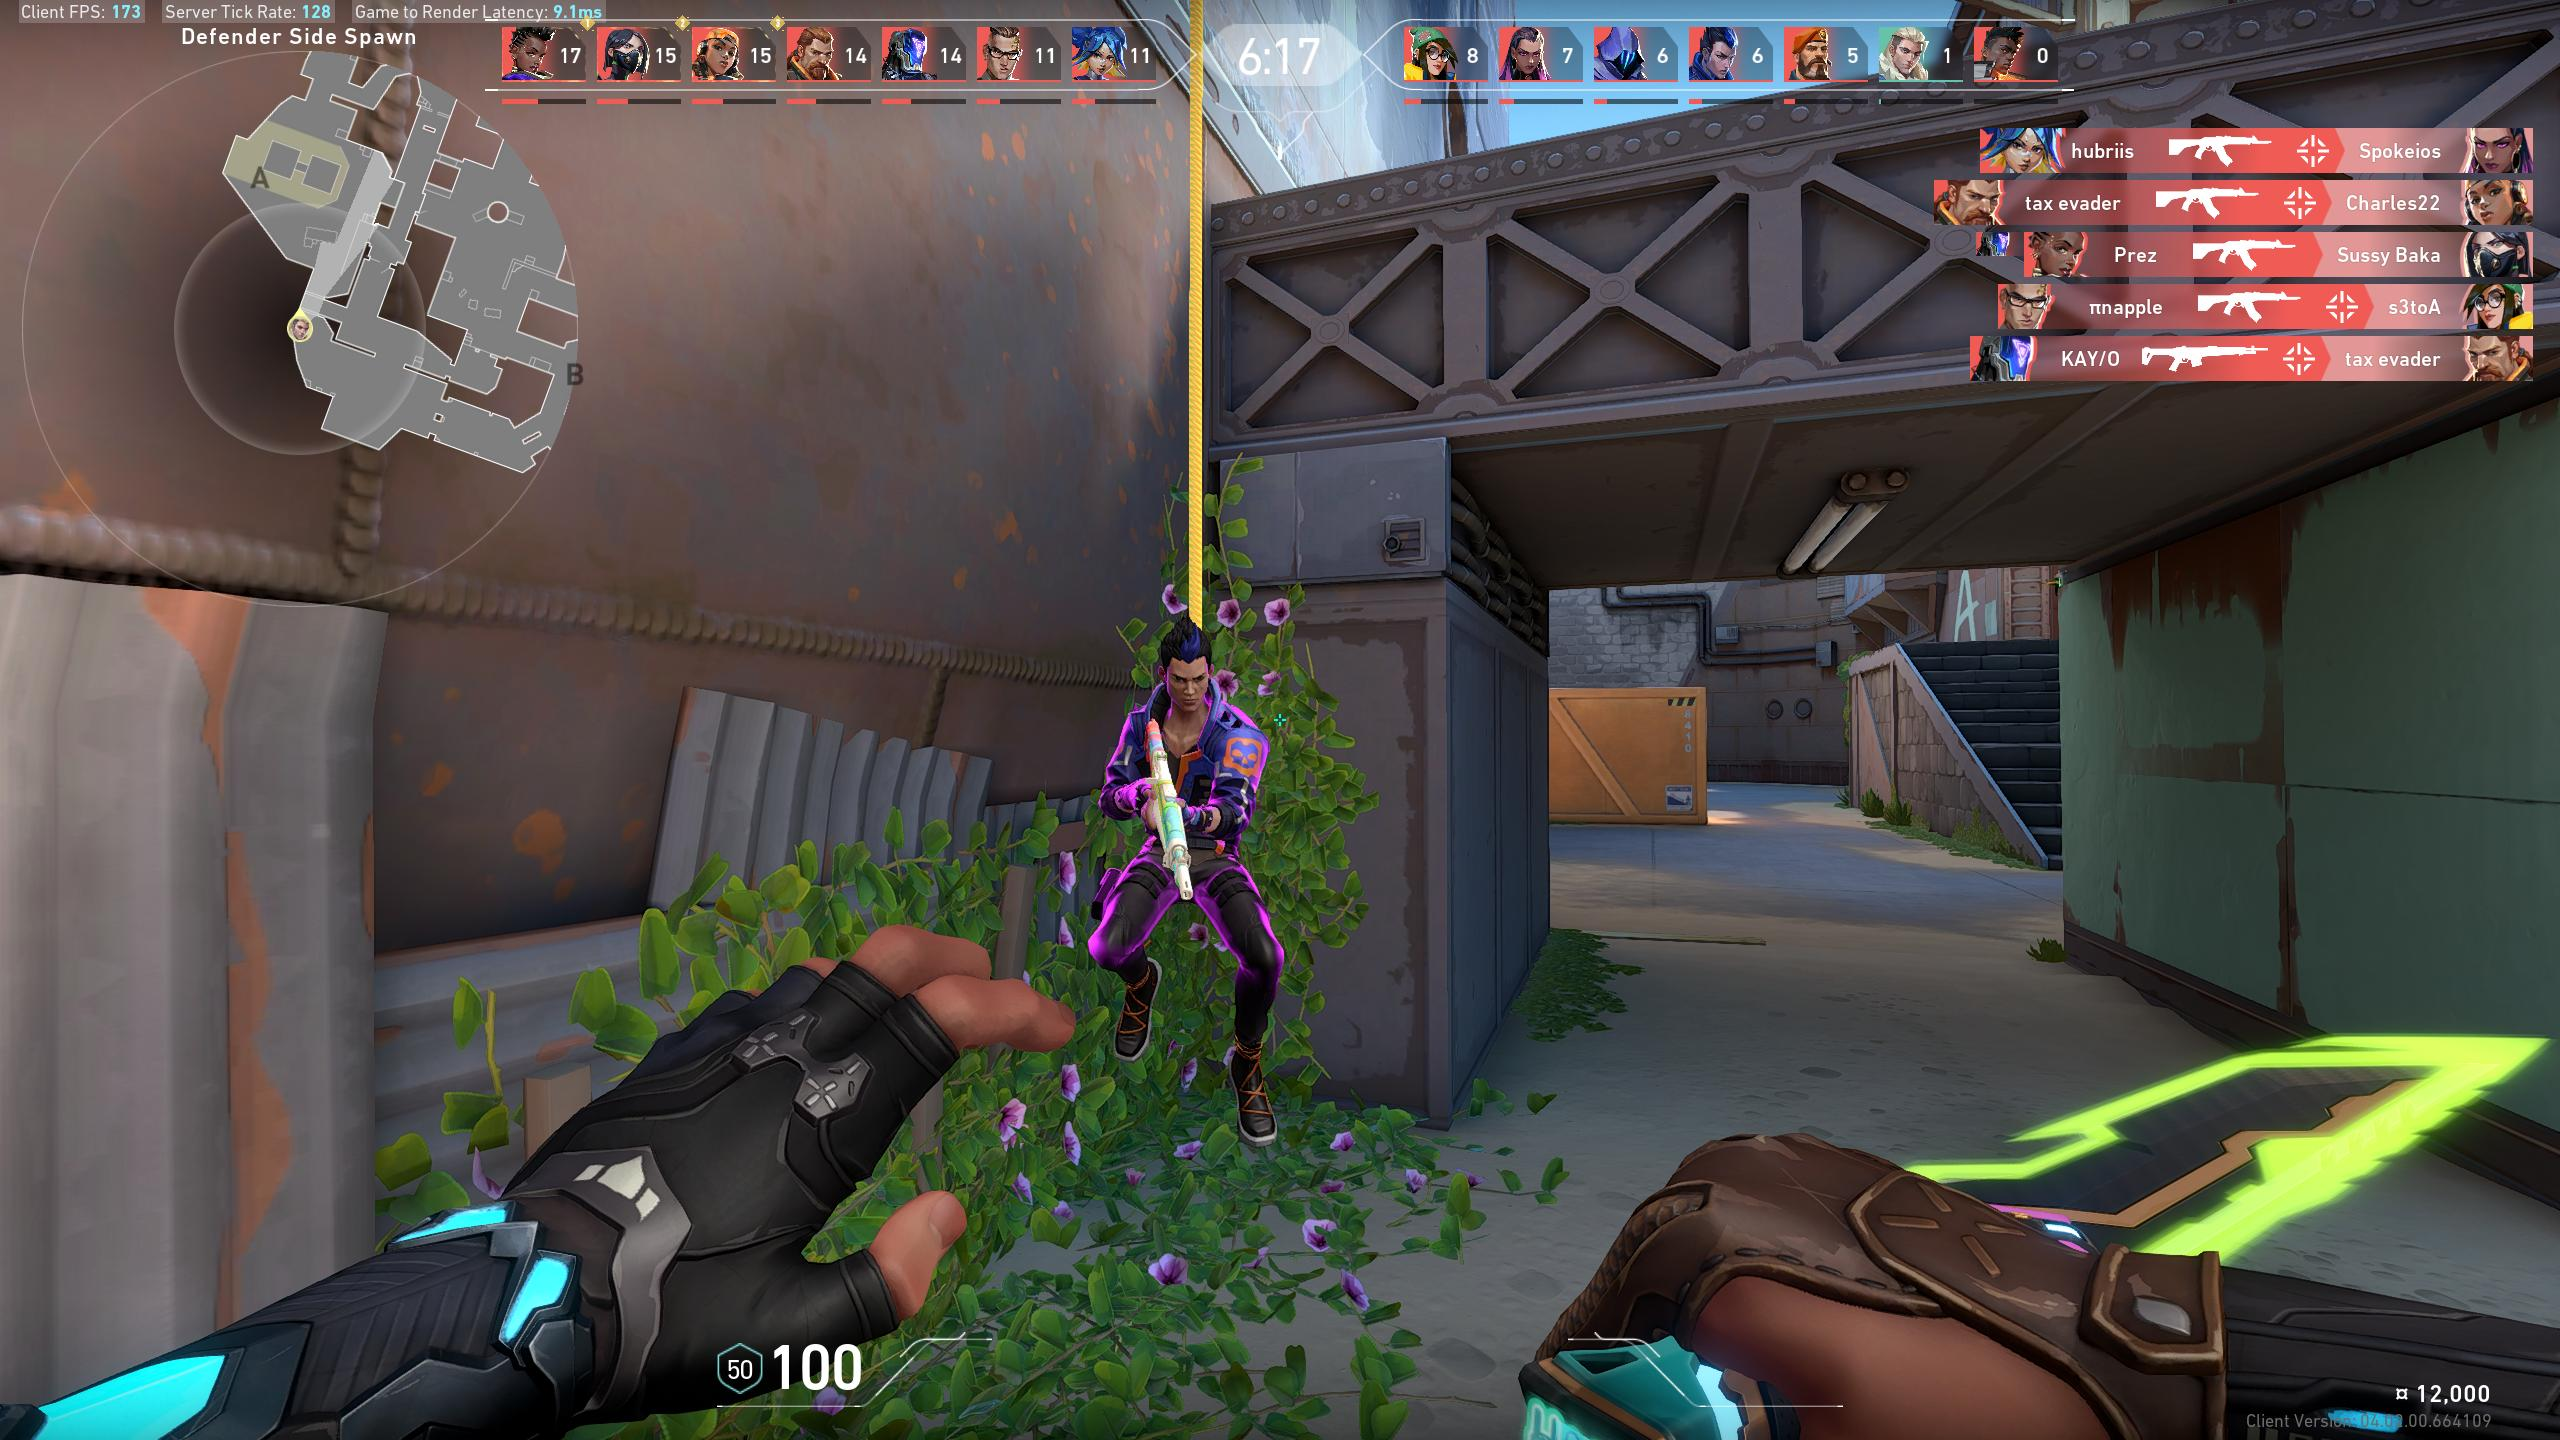enemyBody: (1152, 724, 1213, 844)
enemyHead: (1171, 654, 1210, 709)
